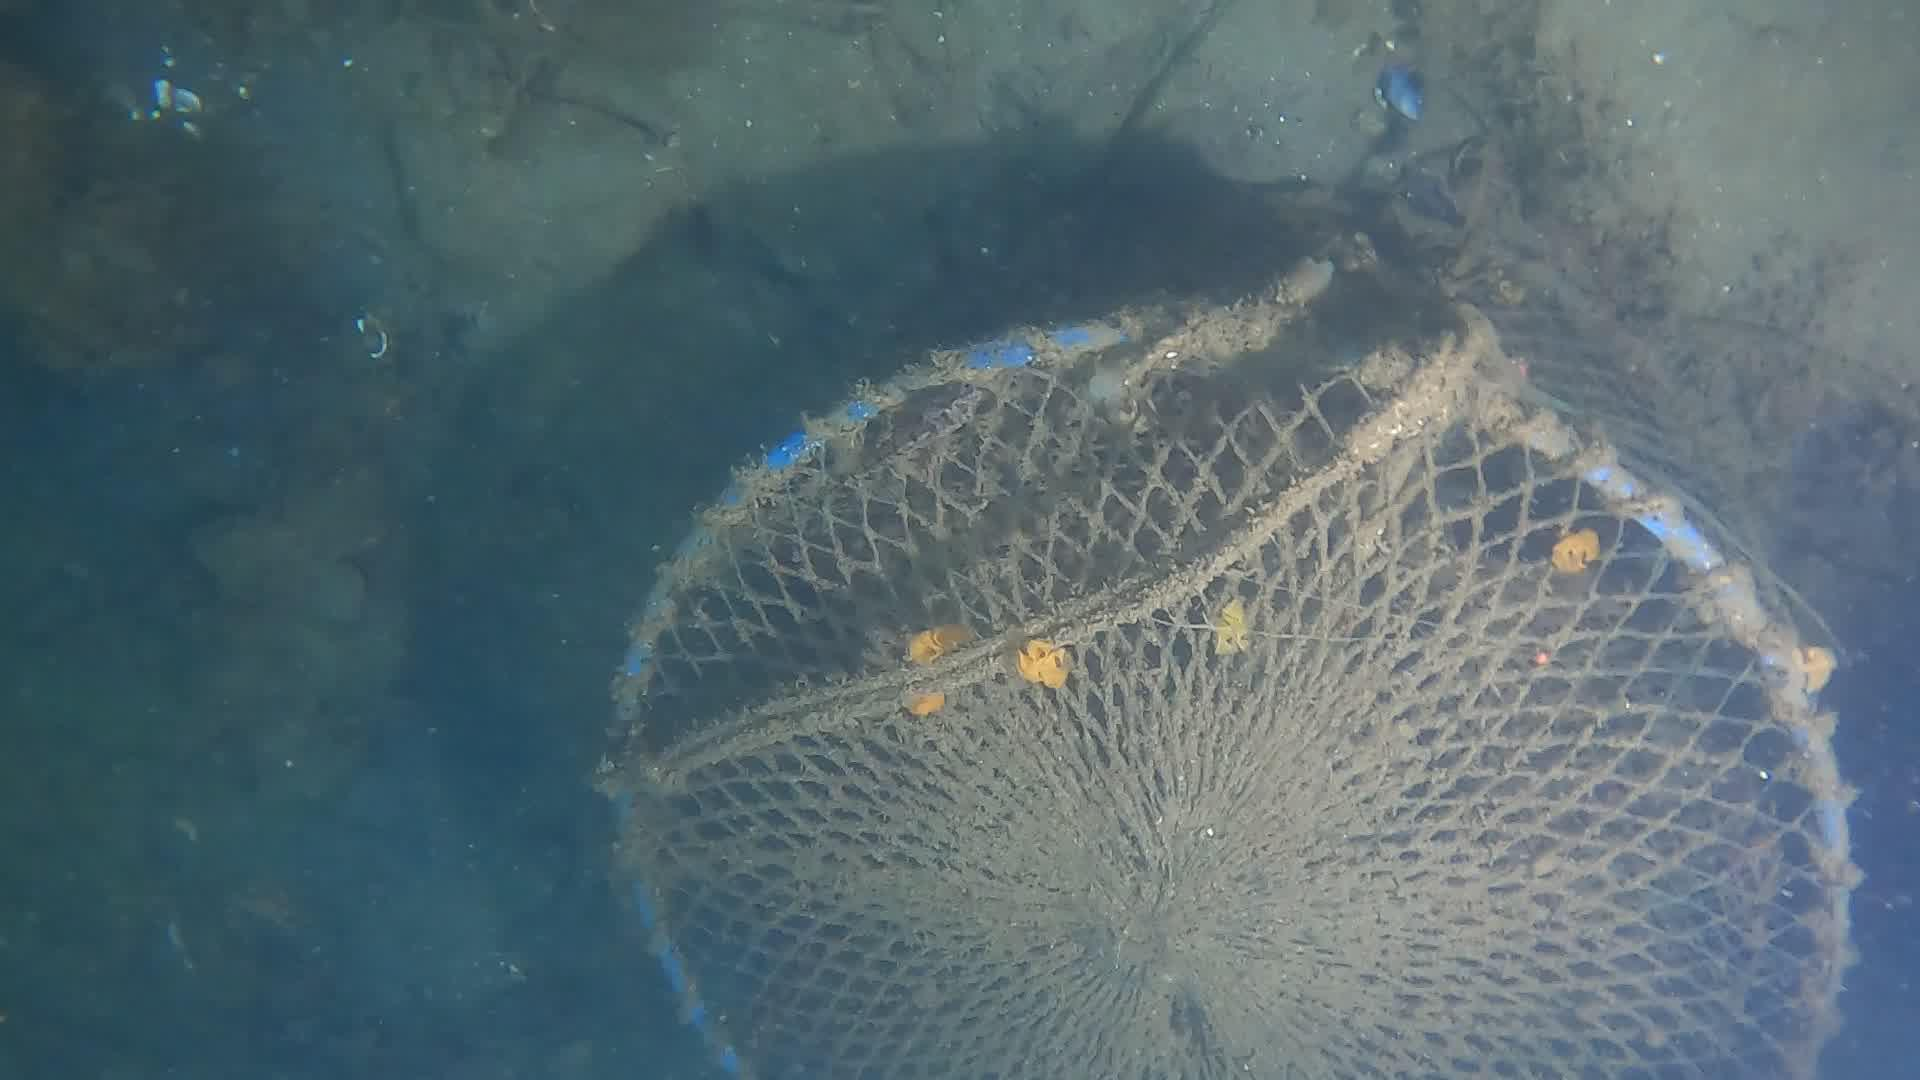circular fish trap: (595, 200, 1851, 1080)
